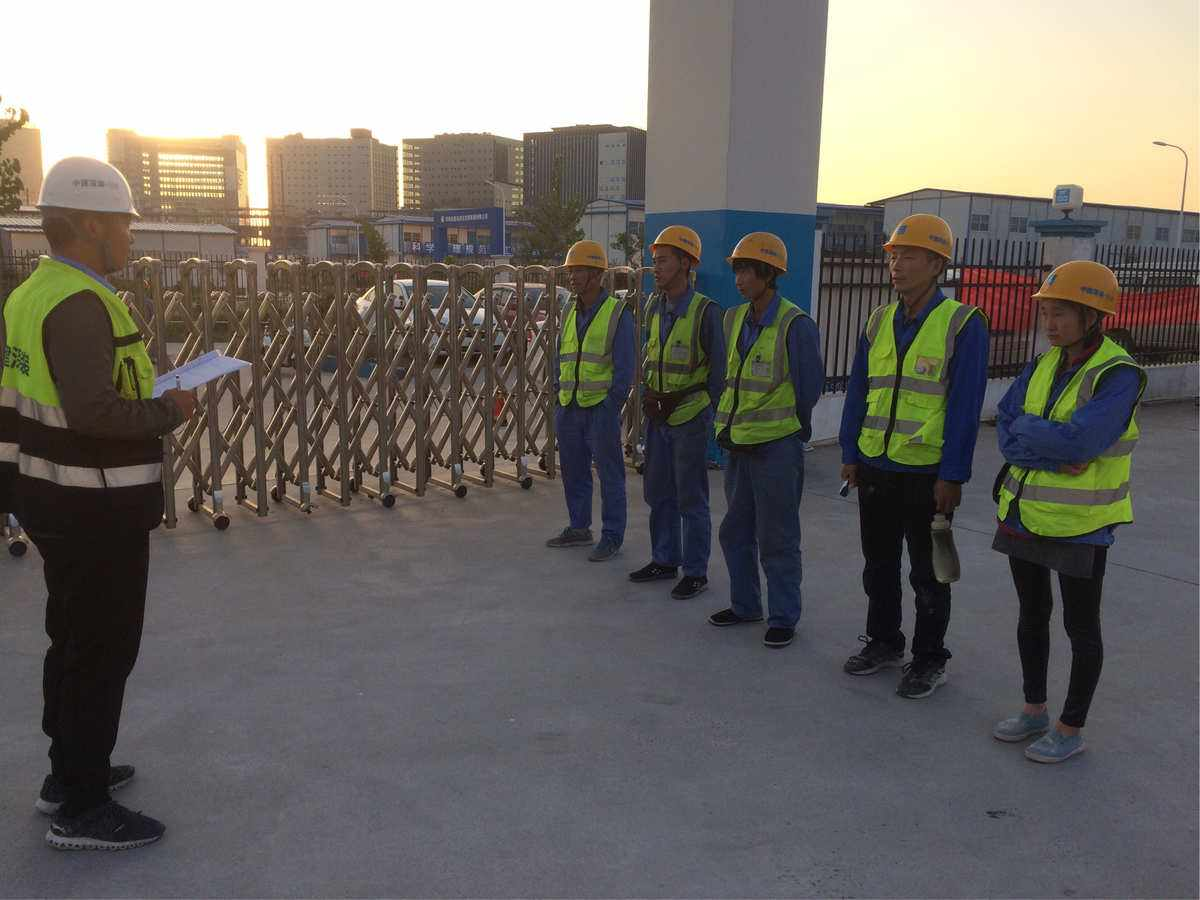person: (1, 156, 200, 854), (990, 259, 1149, 766), (837, 212, 992, 702), (708, 227, 826, 651), (626, 219, 727, 600), (543, 237, 639, 562)
reflective_vest: (1, 255, 161, 530), (995, 333, 1141, 539), (855, 295, 982, 466), (712, 298, 804, 447), (640, 291, 714, 428), (554, 295, 627, 407)
safety_helmet: (36, 154, 141, 276), (1028, 259, 1124, 349), (879, 212, 954, 302), (725, 227, 791, 304), (648, 222, 706, 294), (561, 237, 611, 298)
